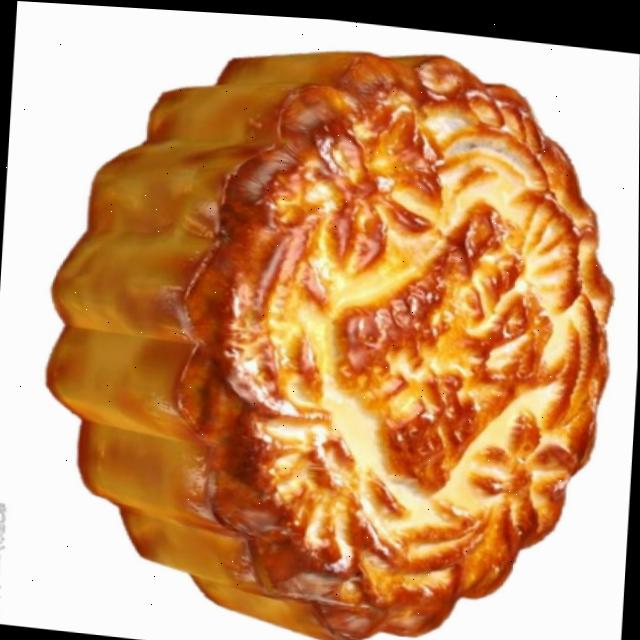蛋糕甜品: (48, 5, 640, 640)
